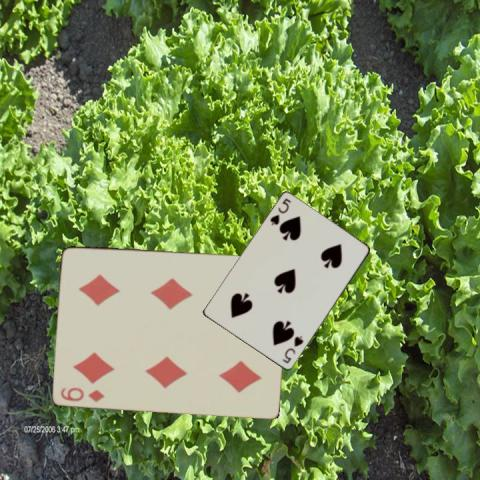5s: (279, 332, 305, 364), (266, 196, 292, 228)
6d: (57, 384, 106, 403)
